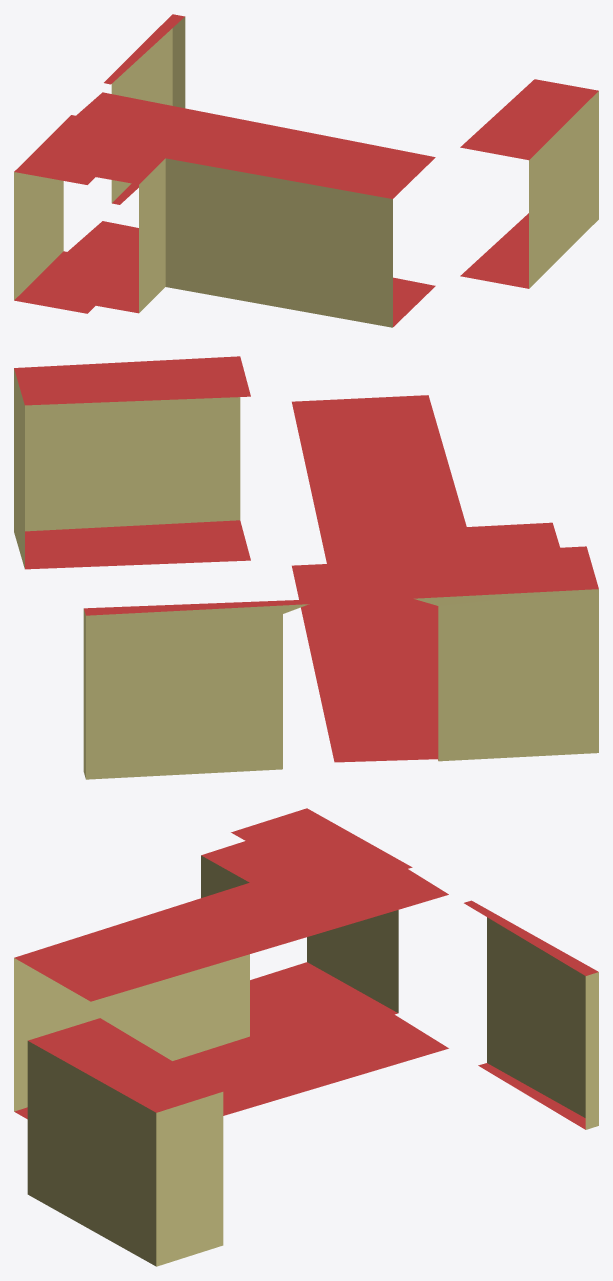
3 renders of one model, top to bottom at view 1: azimuth 30°, elevation 25°; view 2: azimuth 150°, elevation 25°; view 3: azimuth 270°, elevation 25°, orthographic. The views are drawn at different scales.
Parts seen in each view (by area): view 1: group_4, group_3, group_5; view 2: group_4, group_3, group_5; view 3: group_4, group_3, group_5.
Part boxes in pixels (bbox=[...]): group_4: bbox=[14, 17, 598, 327]; group_3: bbox=[14, 14, 598, 198]; group_5: bbox=[14, 183, 528, 326]; group_4: bbox=[14, 369, 598, 779]; group_3: bbox=[14, 356, 598, 615]; group_5: bbox=[25, 520, 438, 762]; group_4: bbox=[14, 855, 598, 1266]; group_3: bbox=[14, 808, 598, 1112]; group_5: bbox=[14, 962, 585, 1129].
Size of the model in its own units: 25.48 by 20.67 by 6.
